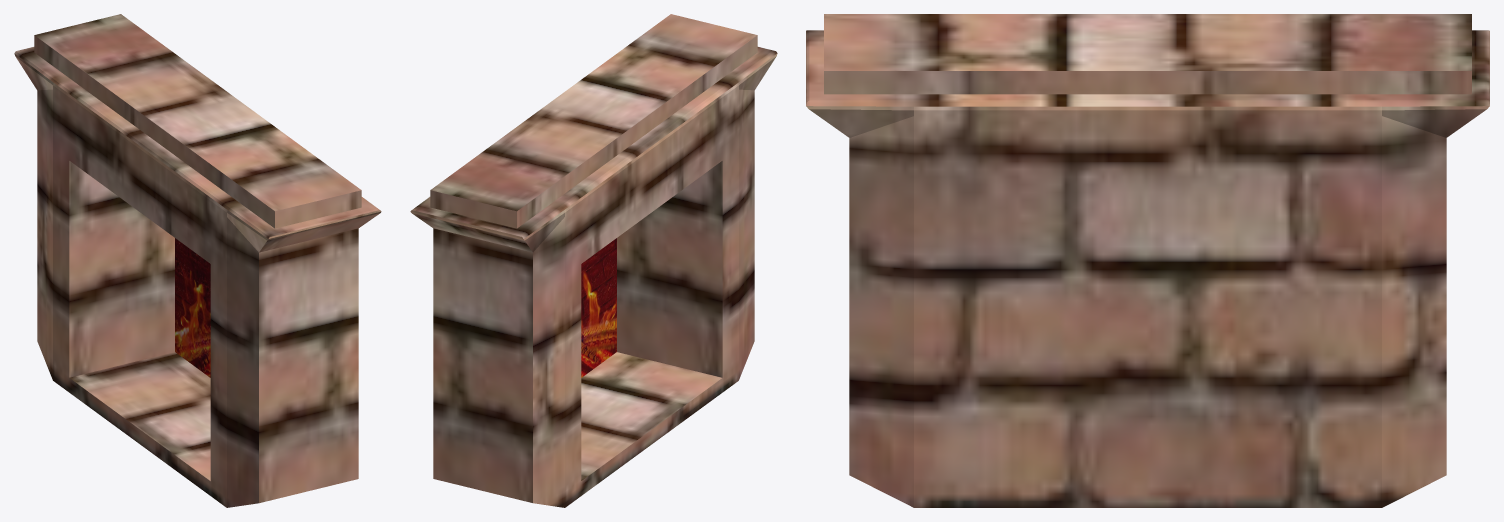
The model's file is Fireplace.fbx.
The picture shows the model from 3 angles, left to right: view 1: azimuth 30°, elevation 25°; view 2: azimuth 150°, elevation 25°; view 3: azimuth 270°, elevation 25°; orthographic projection. The views are drawn at different scales.
Visible parts, largest first — view 1: Cube; view 2: Cube; view 3: Cube.
Boxes of the visible parts, x1,y1,x2,y2 form: Cube: (14, 14, 381, 507); Cube: (410, 14, 777, 507); Cube: (806, 14, 1489, 507).
Bounding box in the file's own units: 61.76 × 162 × 234.
